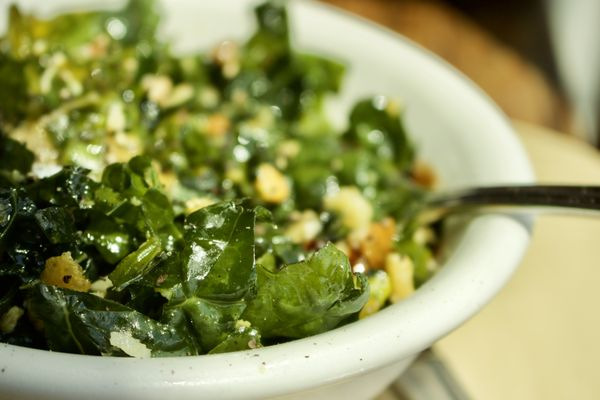salad: (393, 181, 600, 255)
sushi: (5, 1, 598, 389)
